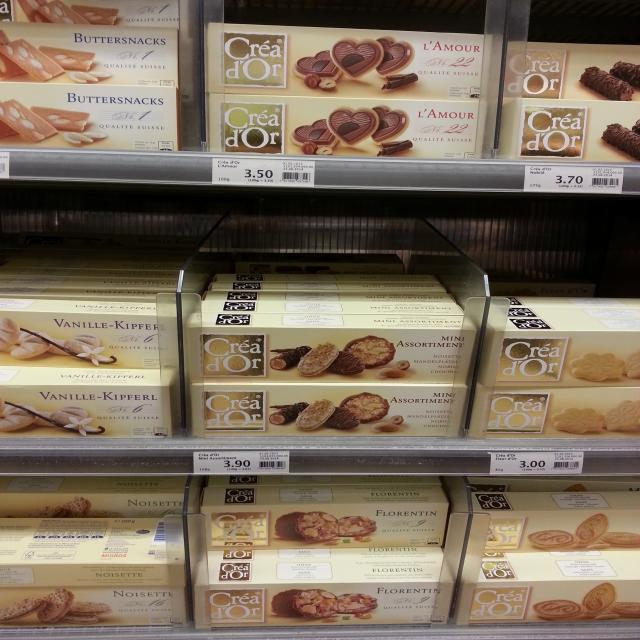Biscuits: (173, 307, 478, 381), (206, 24, 491, 98), (208, 94, 486, 158), (197, 564, 450, 628), (198, 485, 454, 548), (183, 383, 465, 439), (2, 295, 180, 370), (475, 313, 640, 387), (455, 554, 640, 620), (0, 20, 179, 88), (0, 373, 177, 438), (460, 485, 640, 546), (0, 89, 177, 151), (472, 382, 640, 439), (0, 582, 182, 632), (506, 99, 640, 163), (509, 39, 640, 102)
